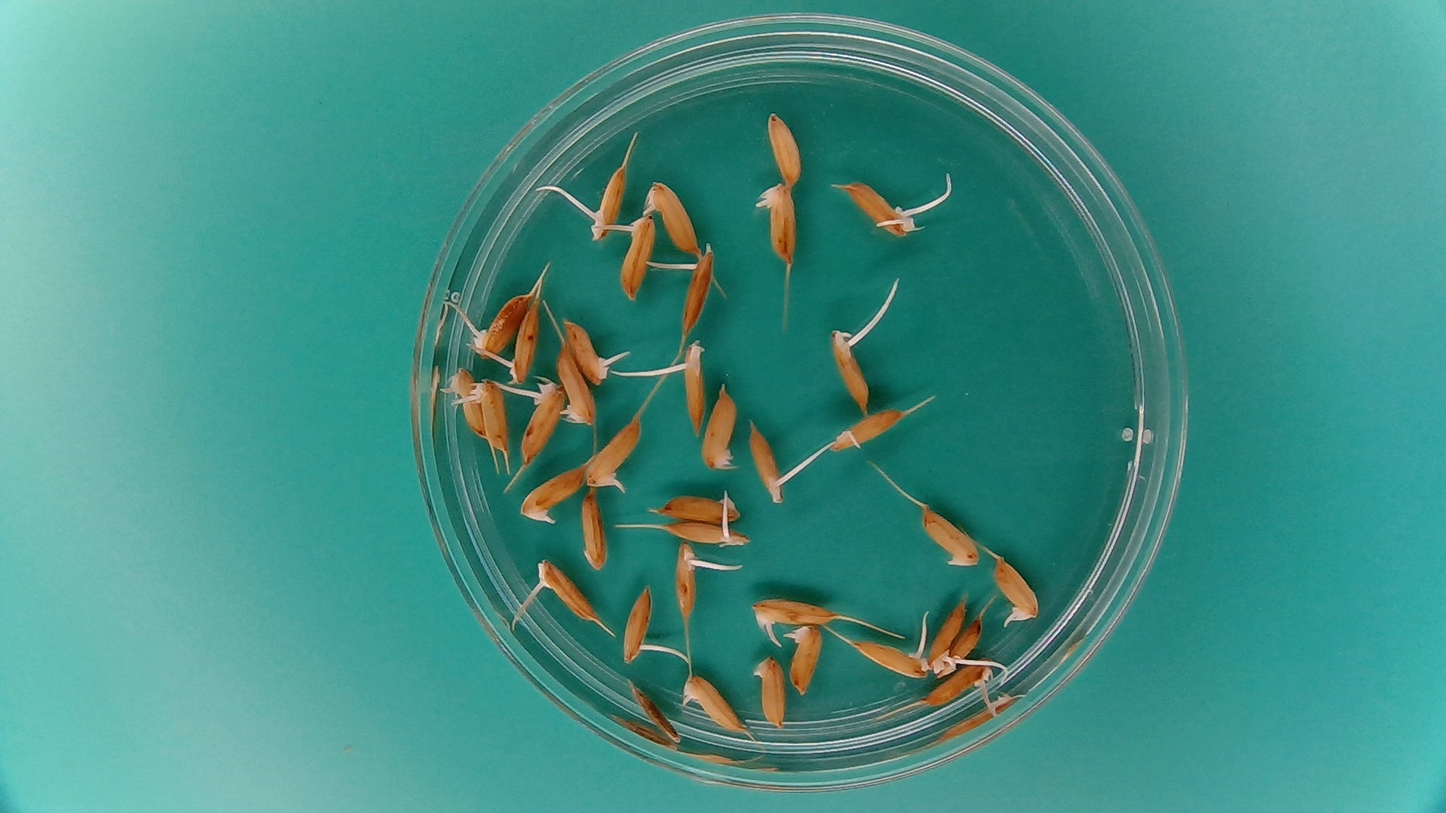no: (917, 504, 981, 568), (700, 382, 740, 473), (764, 107, 807, 189), (650, 489, 747, 522), (749, 651, 789, 729), (630, 678, 676, 743), (936, 616, 979, 682), (579, 486, 610, 573)
yes: (526, 556, 602, 627), (838, 179, 917, 242), (439, 363, 492, 456), (641, 178, 703, 257), (462, 374, 509, 477), (516, 375, 568, 466), (583, 414, 643, 491), (746, 417, 795, 507), (563, 314, 624, 386), (573, 164, 629, 242), (520, 463, 587, 527), (681, 671, 748, 735), (753, 175, 799, 266), (676, 244, 719, 334), (825, 332, 871, 415), (504, 294, 546, 382), (992, 554, 1042, 627), (555, 342, 597, 428), (474, 292, 528, 358), (748, 595, 837, 634), (828, 410, 905, 455), (621, 212, 657, 303), (850, 637, 929, 678), (620, 583, 659, 666), (782, 623, 825, 698), (924, 662, 995, 706), (676, 337, 708, 434), (673, 541, 711, 618), (655, 518, 751, 548), (928, 599, 963, 674)
